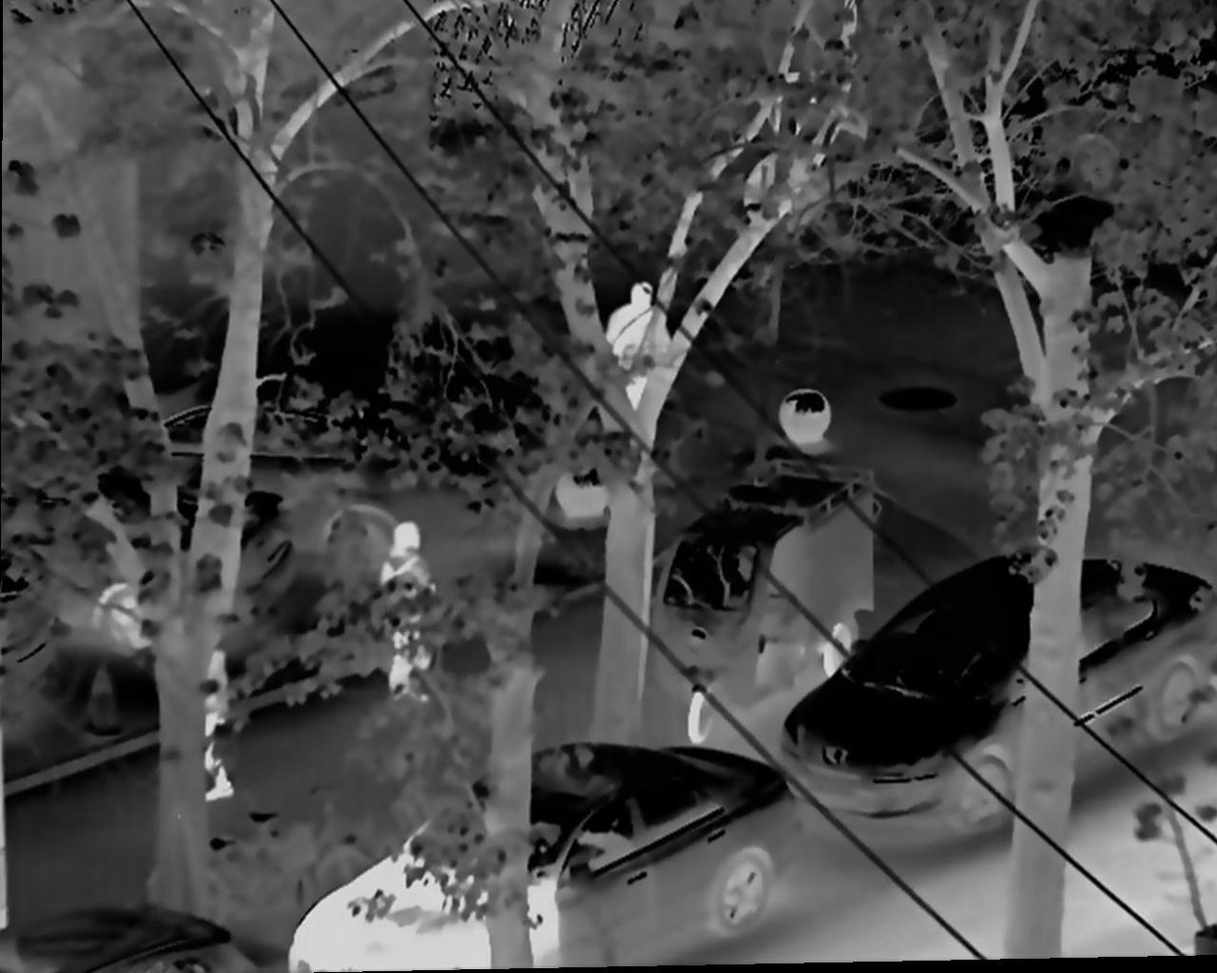person: (592, 270, 677, 460), (369, 521, 445, 717), (178, 620, 245, 804)
